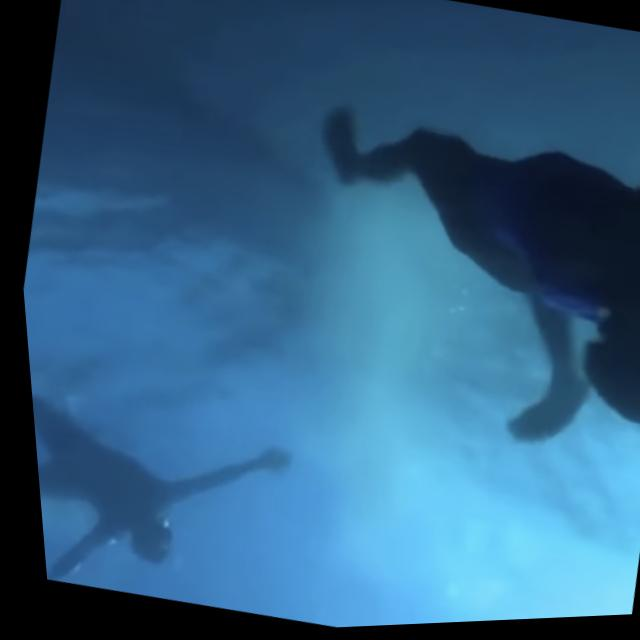human: (249, 83, 640, 493), (24, 364, 314, 629)
